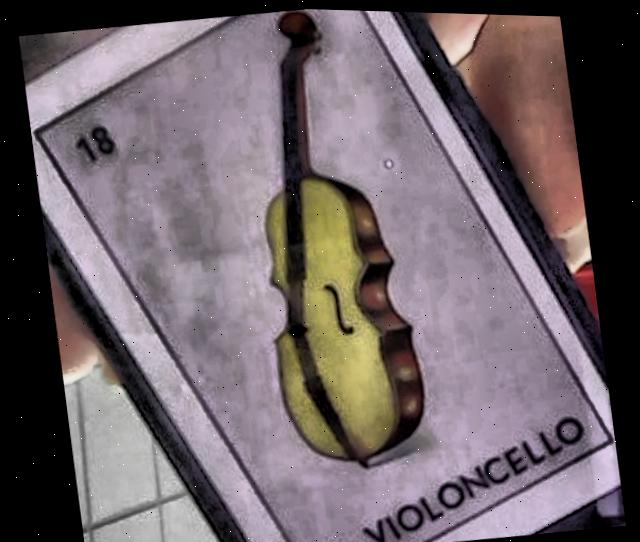El Violoncello: (39, 7, 607, 542)
